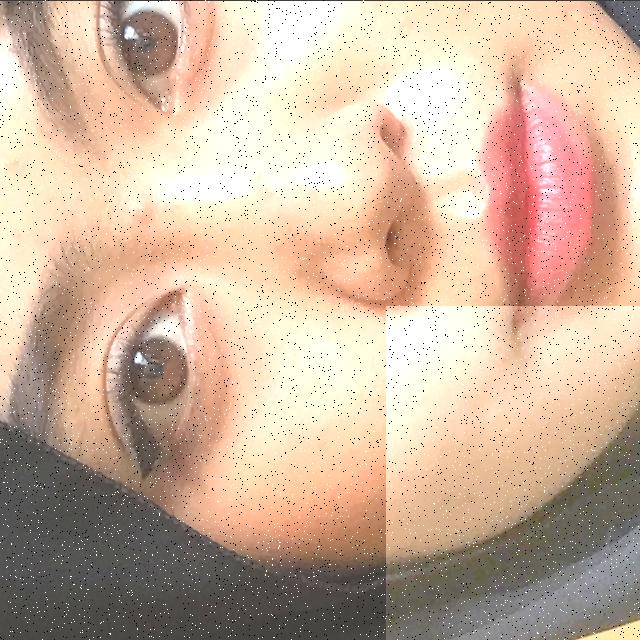kapan: (386, 305, 640, 640)
